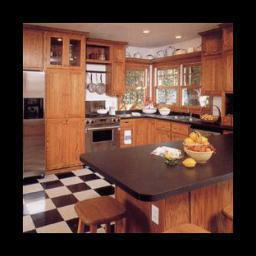Armario: (46, 72, 84, 170)
Electrodomestico: (84, 118, 118, 149)
